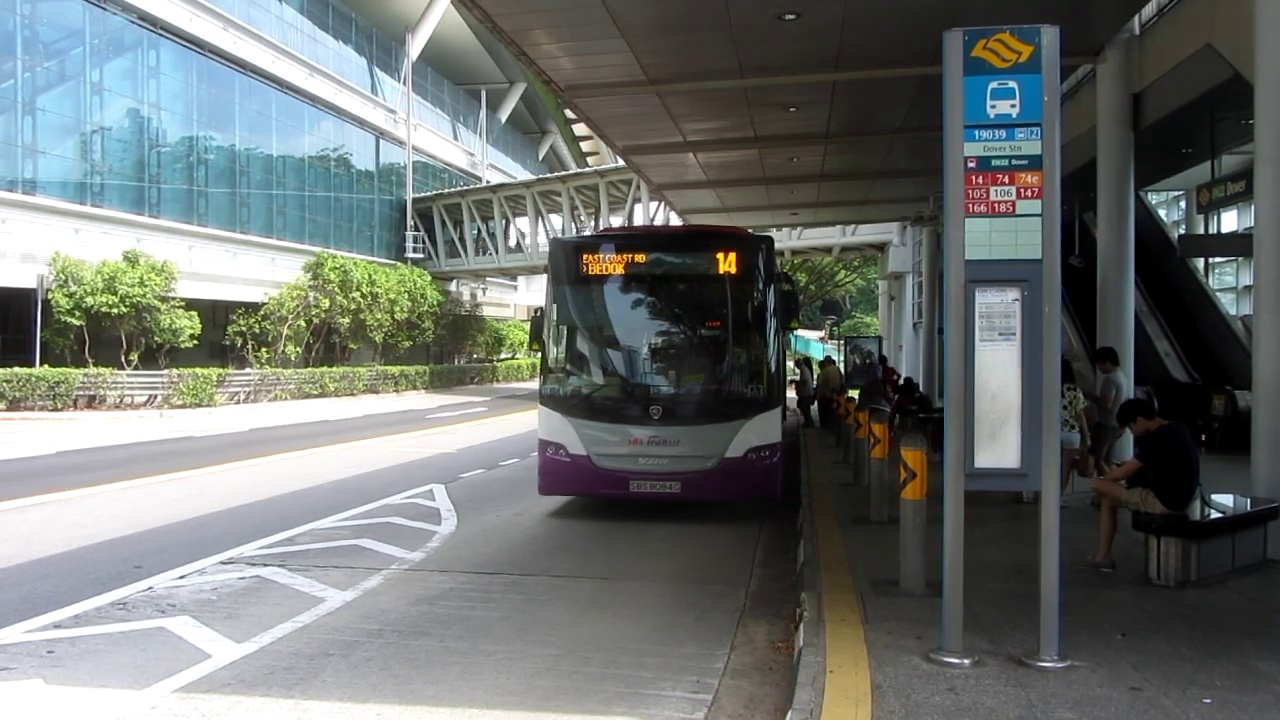bus panel: (576, 249, 742, 278)
